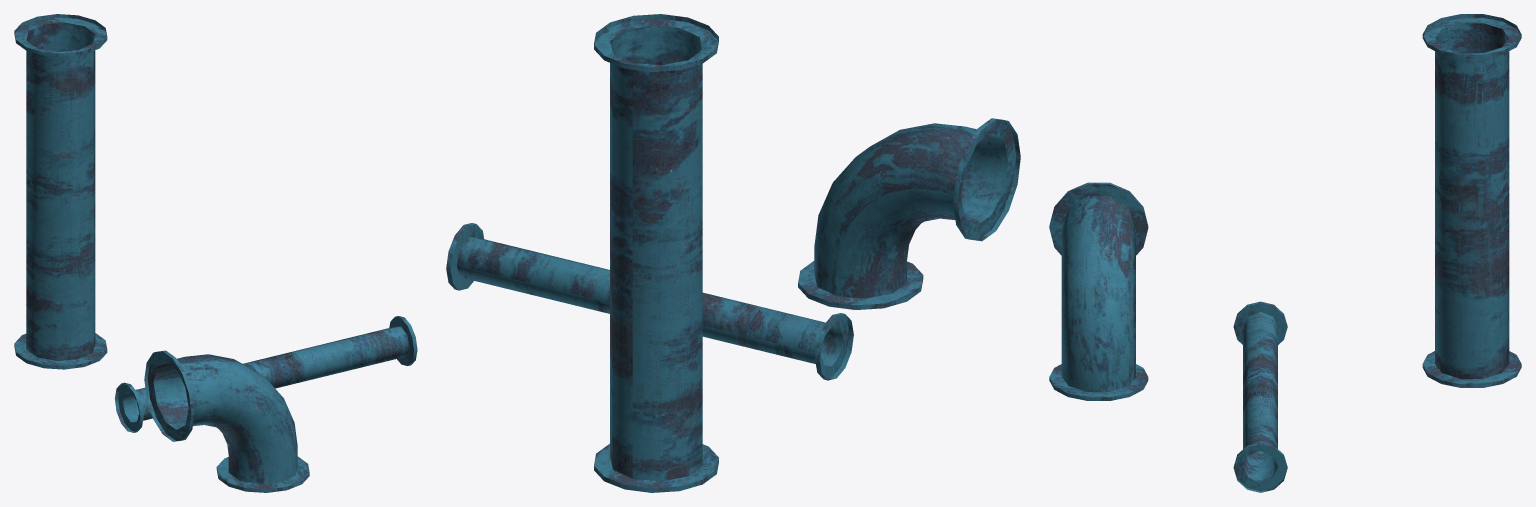
The model's file is Pipes.fbx.
3 views of the same model, side by side, from view 1: azimuth 30°, elevation 25°; view 2: azimuth 150°, elevation 25°; view 3: azimuth 270°, elevation 25° (orthographic). The views are drawn at different scales.
Parts seen in each view (by area): view 1: Group3, Group1, Group2; view 2: Group3, Group1, Group2; view 3: Group3, Group1, Group2.
Part boxes in pixels (x1,y1,x2,y2): Group3: (14,14,107,369); Group1: (144,350,309,492); Group2: (115,316,417,432); Group3: (594,14,718,492); Group1: (798,118,1020,309); Group2: (446,223,853,380); Group3: (1422,14,1521,387); Group1: (1049,182,1148,400); Group2: (1233,301,1287,492).
Size of the model in its own units: 91.13 by 87.74 by 113.
